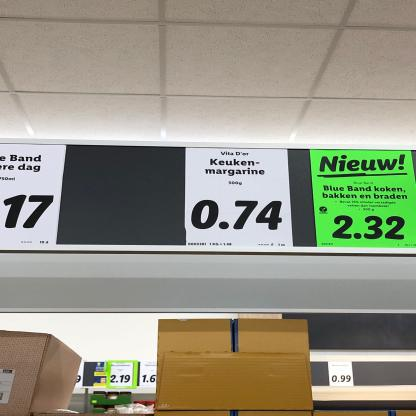prtg: (185, 149, 294, 248), (310, 150, 415, 250), (1, 144, 67, 245)
